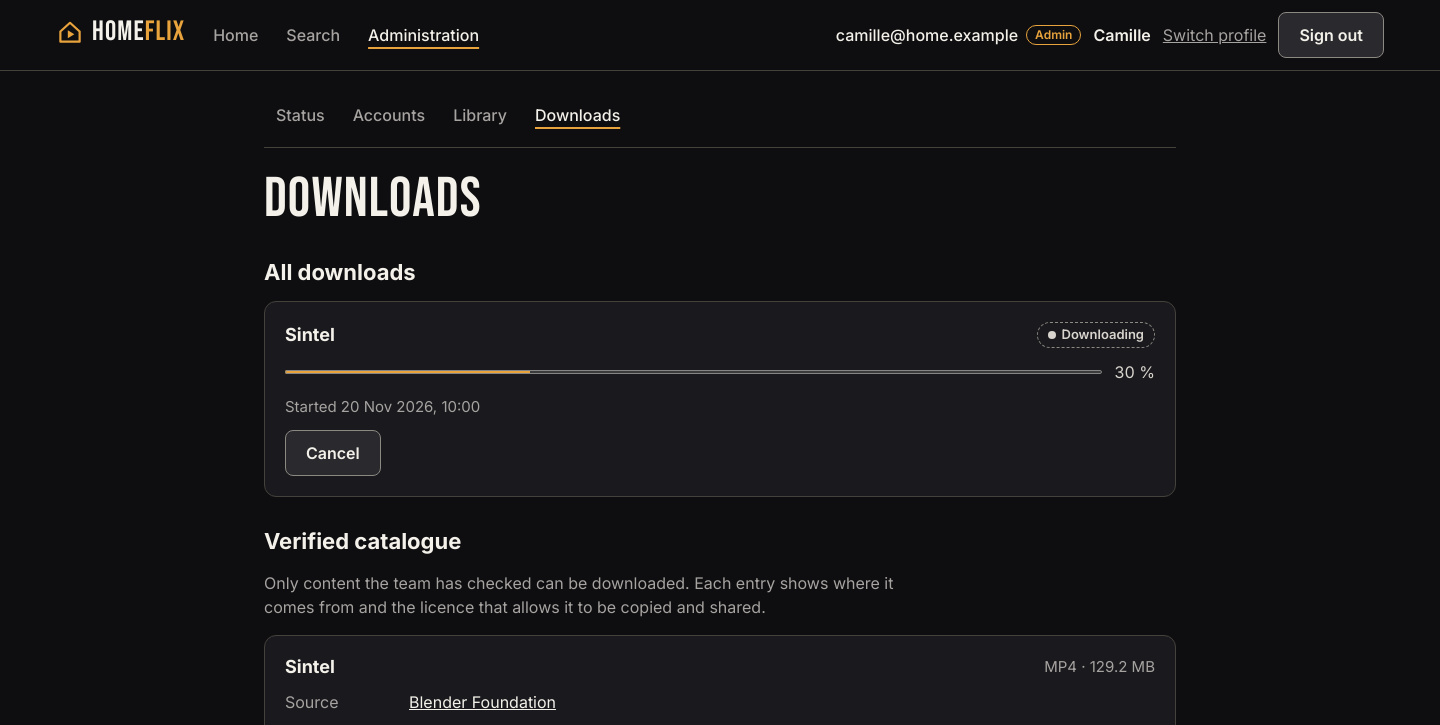
Test: DownloadsPage › asks before cancelling, then cancels and refreshes the list
Click the button with aria-label "Cancel the download of Sintel".
click(333, 453)  # box [285, 430, 381, 476]
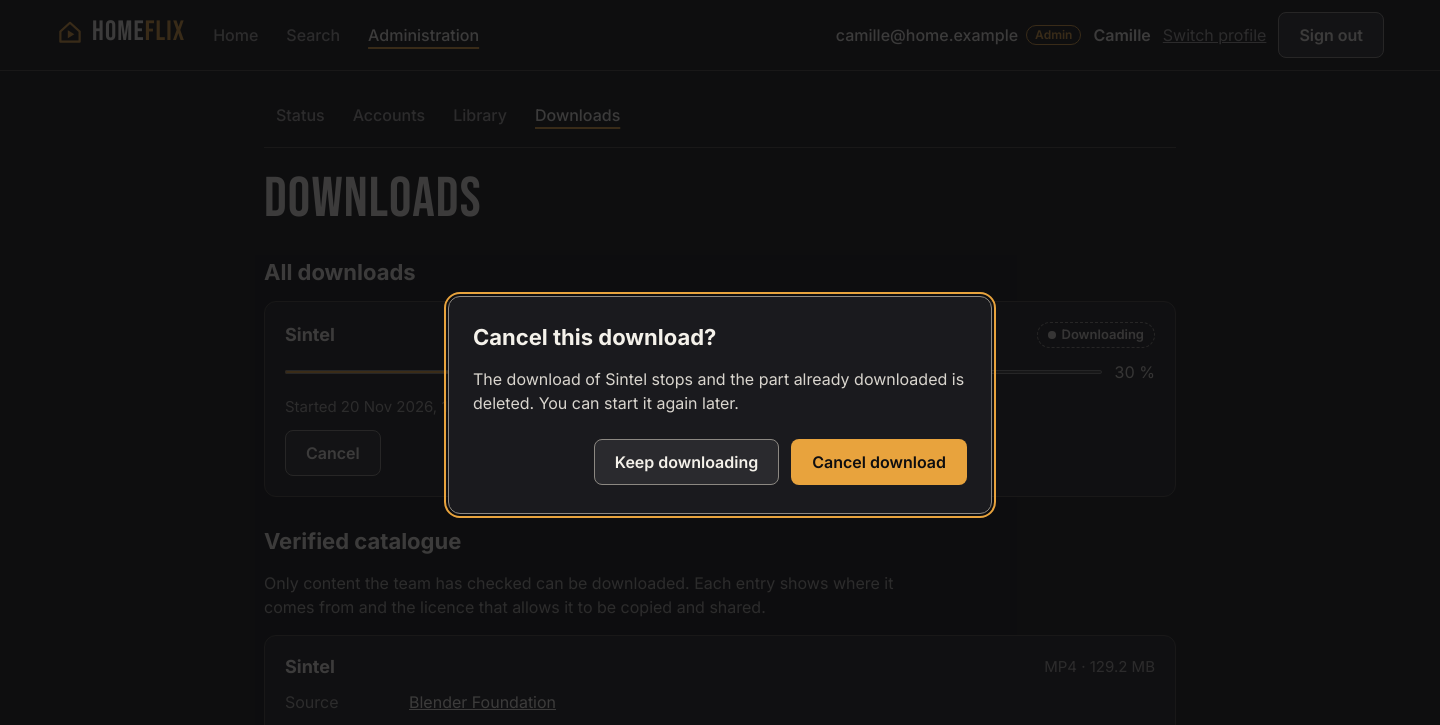
Check: the text "the part already downloaded is deleted" is shown, box [473, 369, 964, 413]
Click the button "Keep downloading".
click(687, 462)  # box [594, 439, 779, 485]
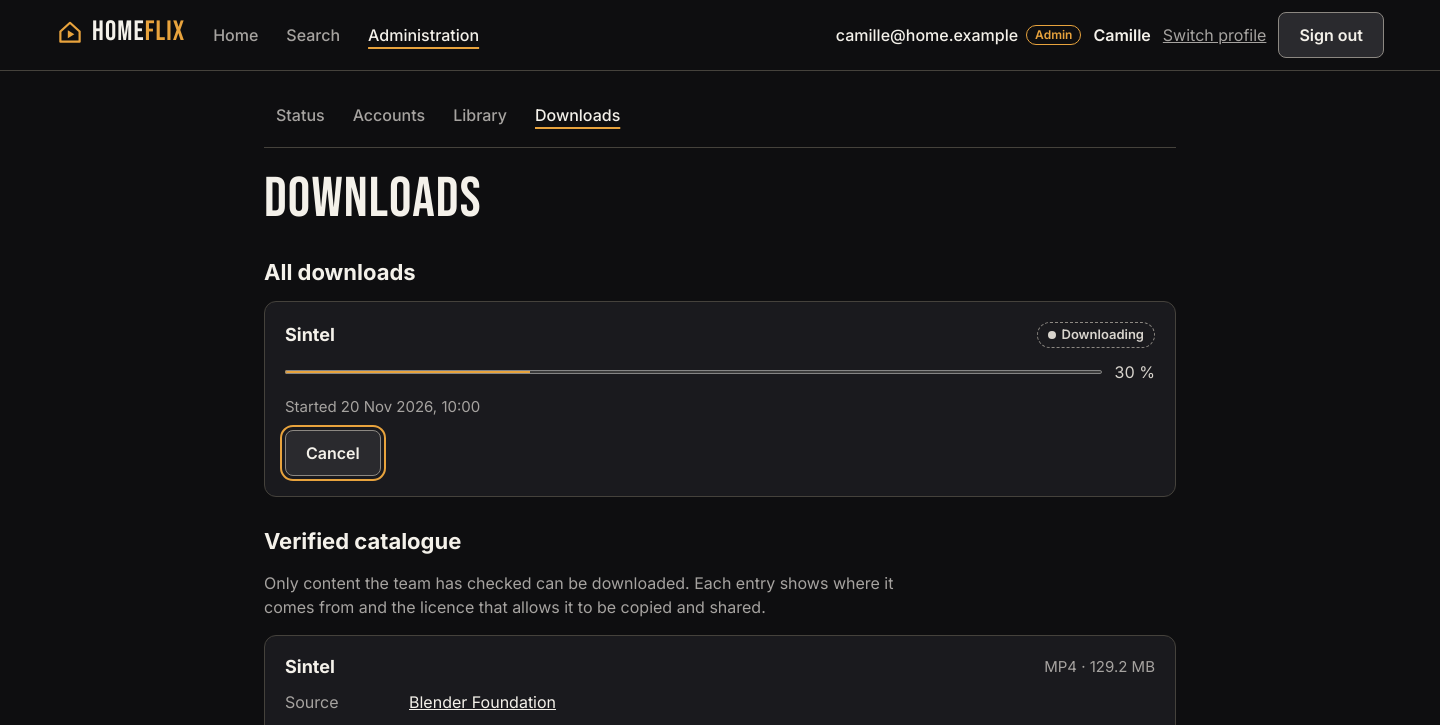
Click the button with aria-label "Cancel the download of Sintel".
click(333, 453)  # box [285, 430, 381, 476]
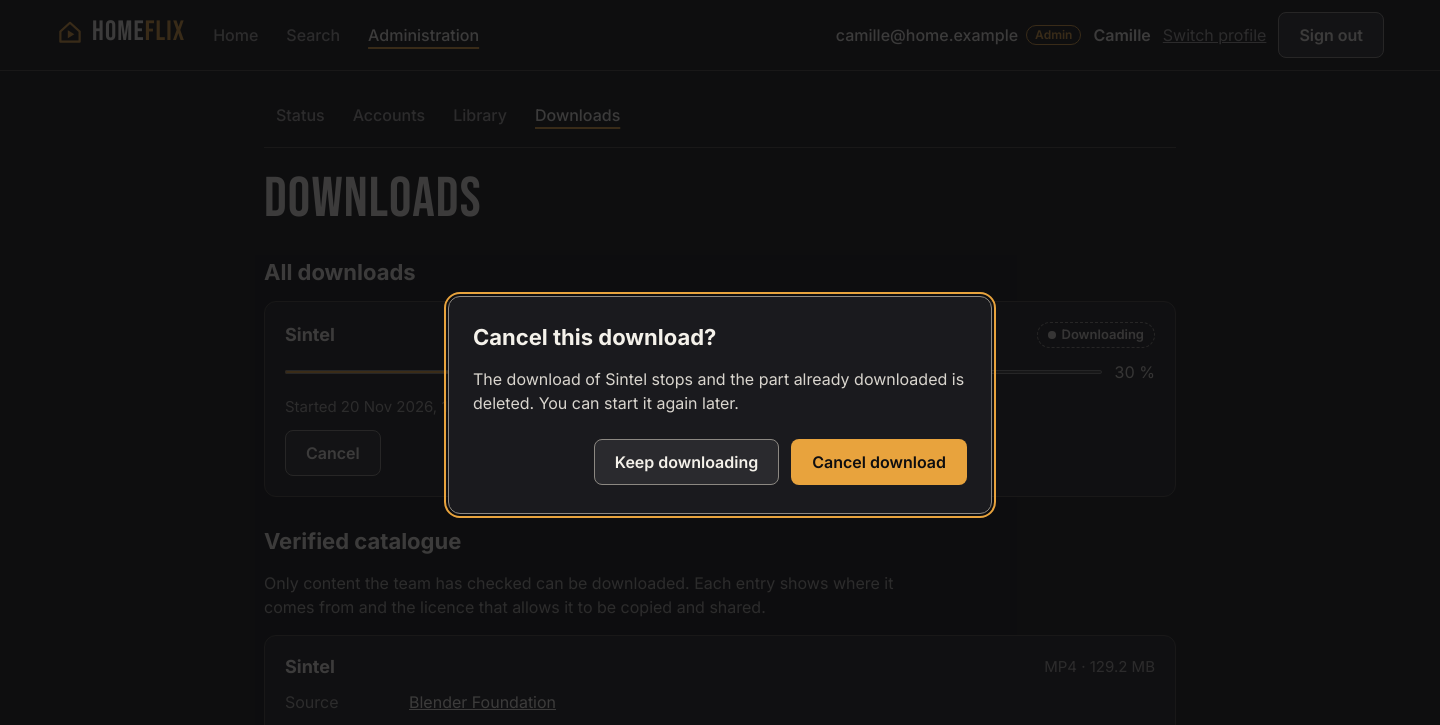
Click the button "Cancel download".
click(879, 462)  # box [791, 439, 967, 485]
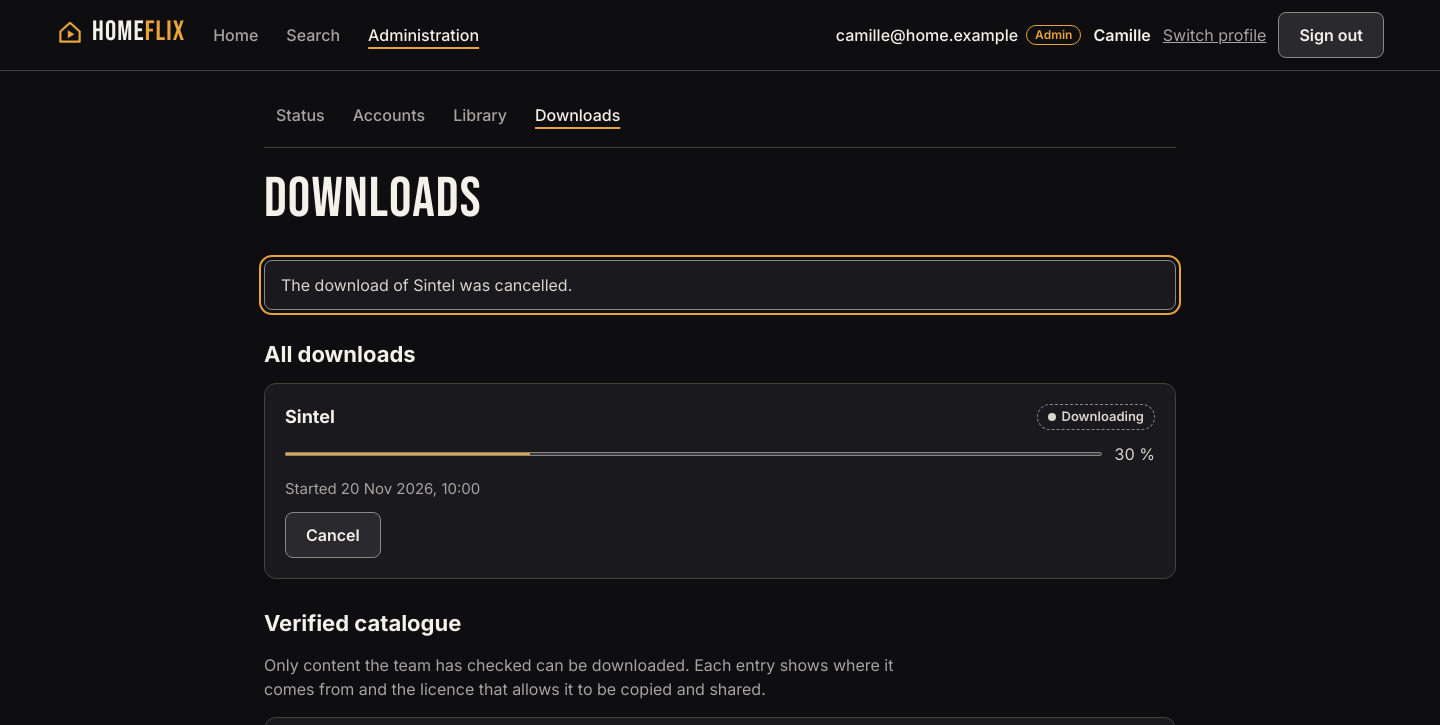
Check: the message reads "The download of Sintel was cancelled.", box [281, 275, 572, 295]
